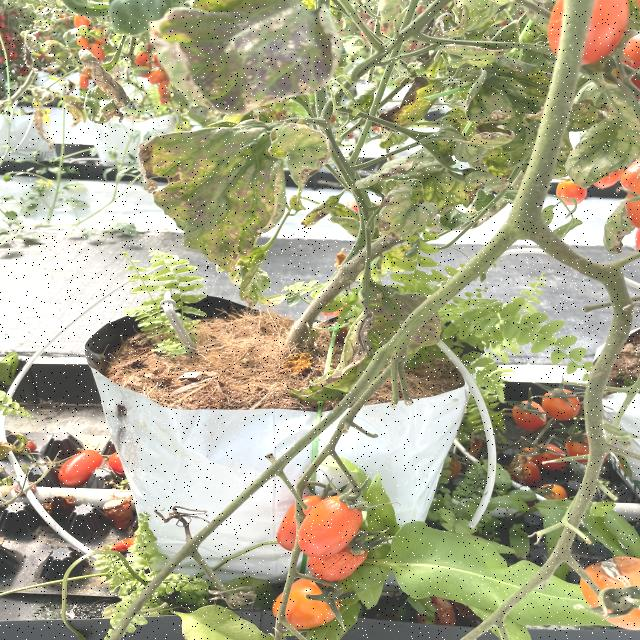Obstacle: (6, 250, 193, 413)
Soilbag: (94, 365, 477, 580)
plant: (129, 39, 552, 384)
